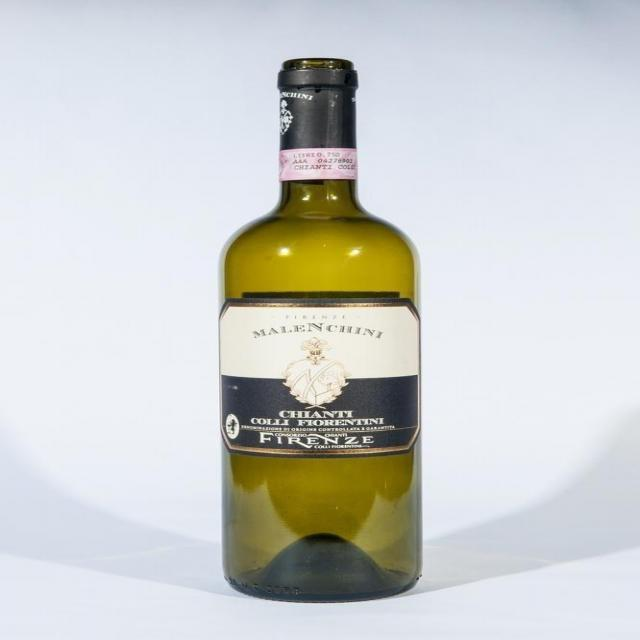bottle-glass: (212, 51, 428, 603)
